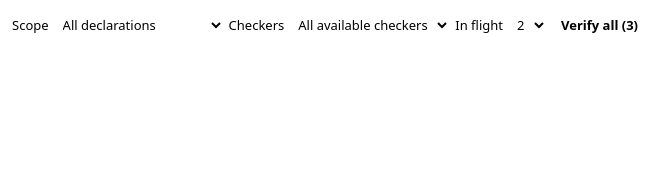
Test: project verification toolbar › includes hidden auxiliary and external declarations by default
Expected: the dropdown named "In-flight verification limit" shows "2", [507,12,547,38]
Click the button "Verify all (3)" at (600, 25), box [552,13,647,37]
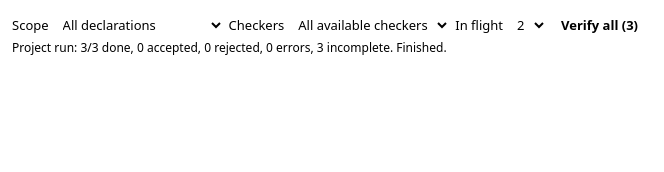
Now the text "Project run: 3/3 done" is shown, box [12,39,447,56]
